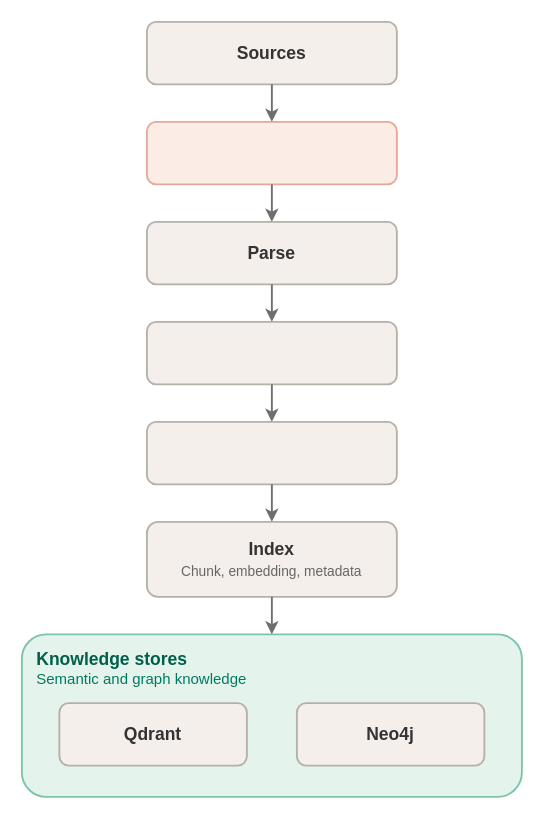
This 545x820 diagram has some shape labels left out. The shapes that lost their labels are listed below. From the top down, each one's centre as x and y in pixels, then its label:
At point 271,152: "Connectors".
At point 271,352: "Chunk".
At point 271,452: "Embed".
